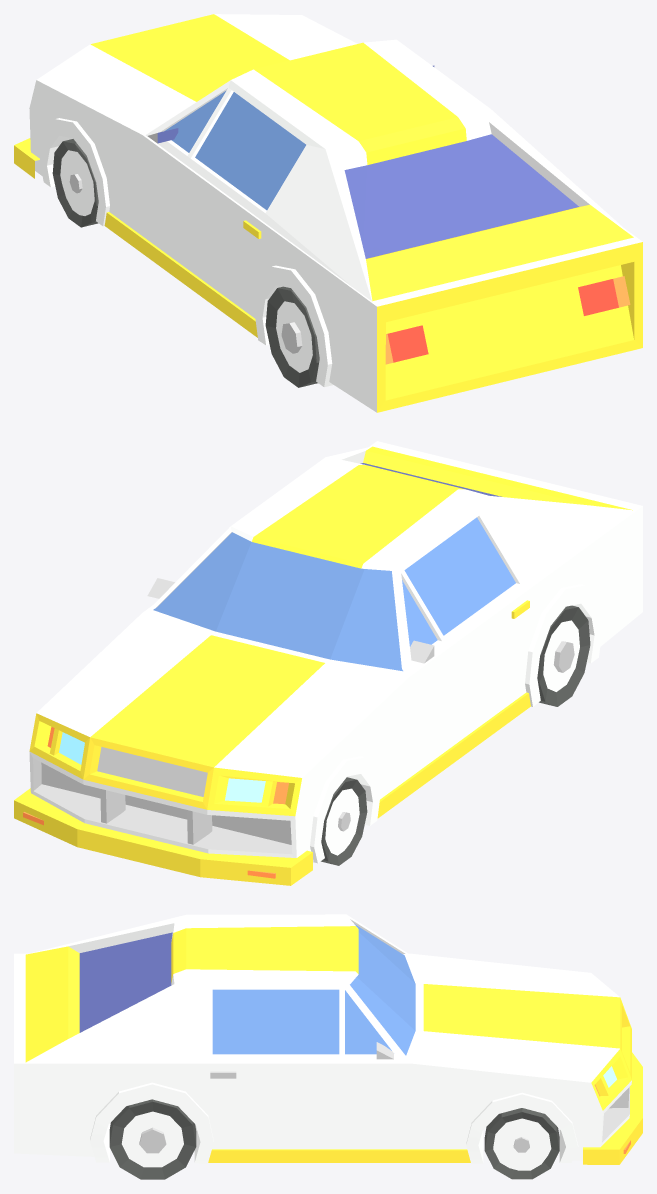
File: transport_sport.003.glb
The picture shows the model from 3 angles, top to bottom: view 1: azimuth 30°, elevation 25°; view 2: azimuth 150°, elevation 25°; view 3: azimuth 270°, elevation 25°; orthographic projection. The views are drawn at different scales.
Parts seen in each view (by area): view 1: transport_sport.003(Clone); view 2: transport_sport.003(Clone); view 3: transport_sport.003(Clone).
Part boxes in pixels (bbox=[...]): transport_sport.003(Clone): bbox=[14, 14, 642, 412]; transport_sport.003(Clone): bbox=[14, 441, 642, 885]; transport_sport.003(Clone): bbox=[14, 914, 642, 1179].
Bounding box in the file's own units: 1.63 × 1.16 × 3.78.
Materials: 1 (1 with a texture image).
